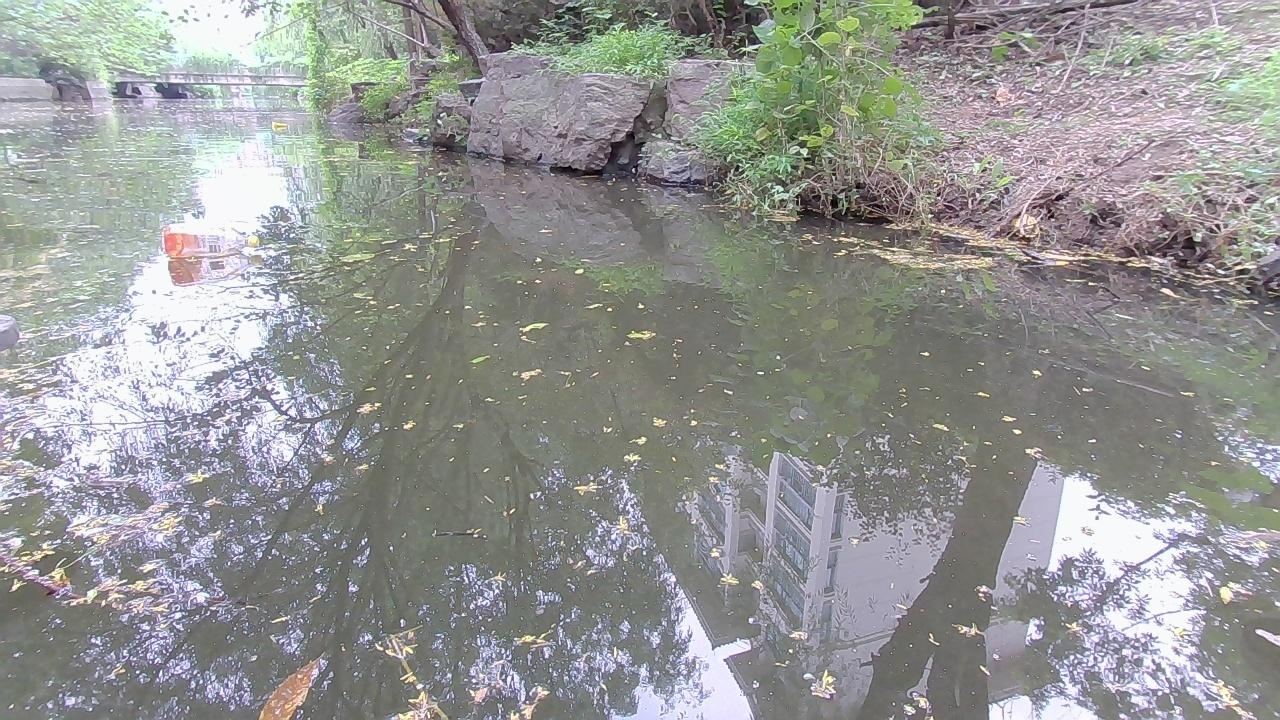bottle: (156, 222, 257, 256), (271, 118, 288, 128)
